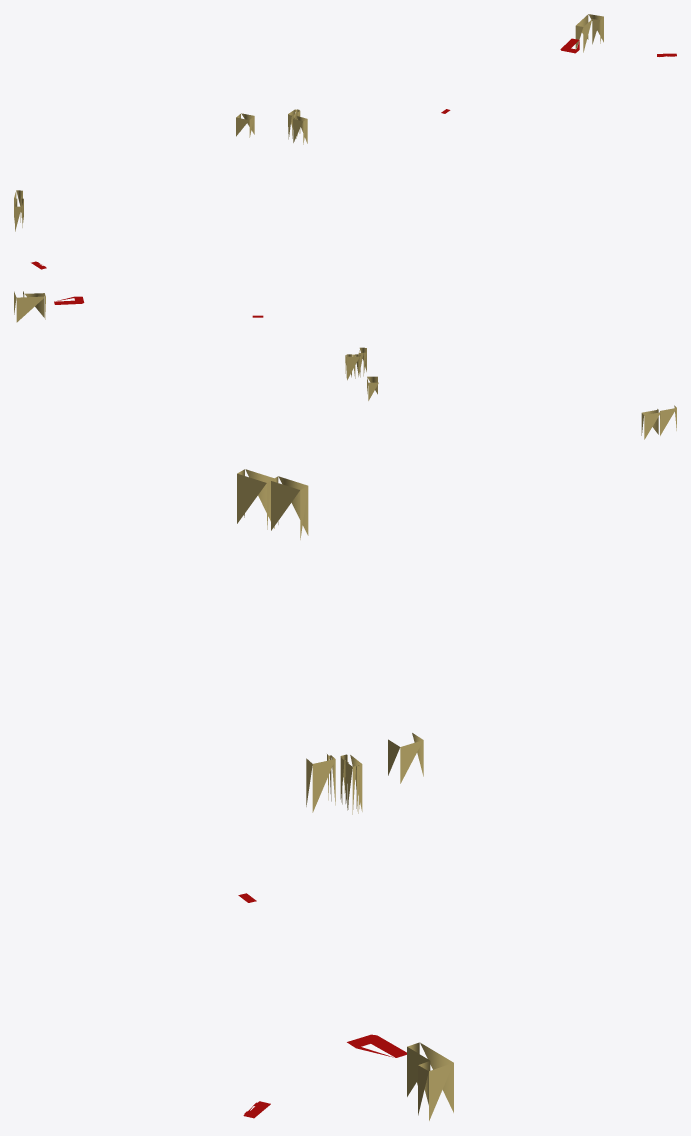
The picture shows the model from 3 angles, top to bottom: view 1: azimuth 30°, elevation 25°; view 2: azimuth 150°, elevation 25°; view 3: azimuth 270°, elevation 25°; orthographic projection. The views are drawn at different scales.
Size of the model in its own units: 2261 by 85 by 330.
